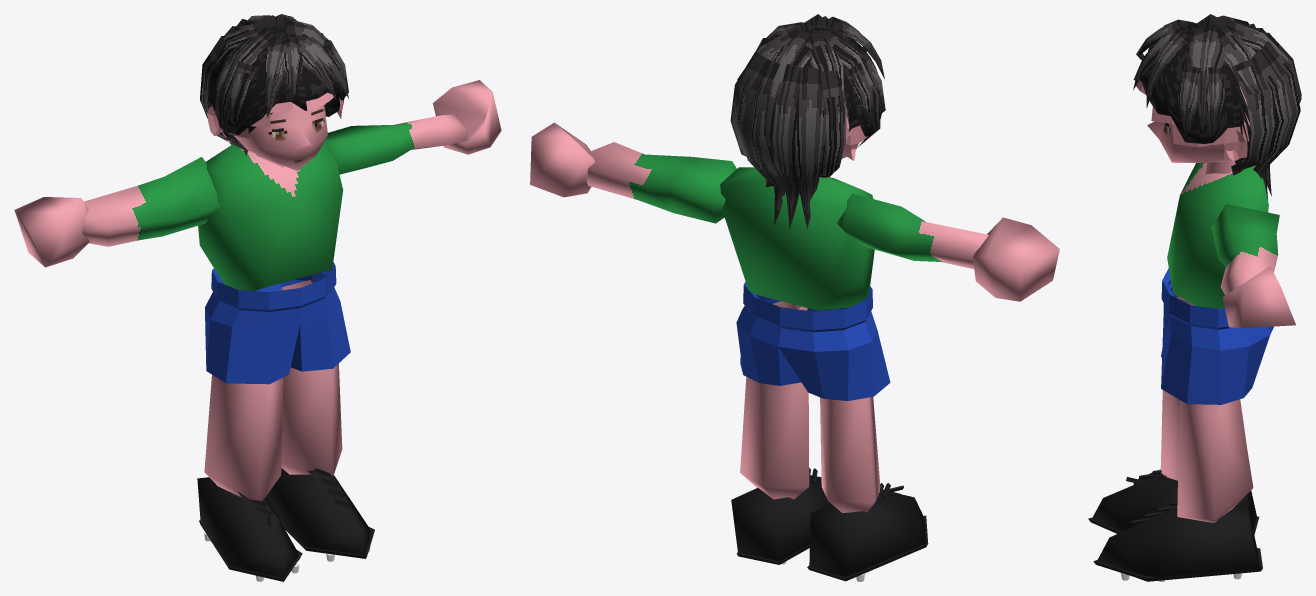
Rendered from 07-mullet_preto.glb.
3 views of the same model, side by side, from view 1: azimuth 30°, elevation 25°; view 2: azimuth 150°, elevation 25°; view 3: azimuth 270°, elevation 25° (orthographic). The views are drawn at different scales.
Parts seen in each view (by area): view 1: Camisa_Tronco, Bermuda, Cabelo, Perna.R, Braco.R, Perna.L, Chuteira.R, Chuteira.L, Braco.L, Mao.R, Cabeca, Mao.L (+2 smaller); view 2: Cabelo, Camisa_Tronco, Bermuda, Perna.L, Braco.L, Chuteira.R, Perna.R, Braco.R, Mao.R, Chuteira.L, Mao.L, Chuteira_Sola.R; view 3: Cabelo, Bermuda, Chuteira.L, Camisa_Tronco, Perna.L, Braco.L, Mao.L, Chuteira.R, Perna.R, Cabeca, Couro_Cabeludo, Chuteira_Sola.L (+3 smaller).
Boxes of the visible parts, x1,y1,x2,y2 form: Camisa_Tronco: [198, 142, 343, 290]; Bermuda: [205, 262, 350, 384]; Cabelo: [200, 14, 348, 155]; Perna.R: [204, 375, 283, 501]; Braco.R: [82, 157, 219, 246]; Perna.L: [281, 280, 342, 476]; Chuteira.R: [197, 477, 300, 577]; Chuteira.L: [266, 468, 370, 555]; Braco.L: [324, 114, 468, 174]; Mao.R: [14, 197, 89, 267]; Cabeca: [233, 104, 327, 170]; Mao.L: [432, 80, 501, 154]; Cabelo: [730, 14, 885, 229]; Camisa_Tronco: [720, 167, 874, 310]; Bermuda: [736, 281, 890, 400]; Perna.L: [740, 301, 809, 499]; Braco.L: [586, 142, 736, 223]; Chuteira.R: [809, 490, 926, 577]; Perna.R: [820, 397, 880, 512]; Braco.R: [837, 193, 988, 268]; Mao.R: [972, 217, 1059, 301]; Chuteira.L: [731, 475, 830, 561]; Mao.L: [530, 122, 594, 197]; Chuteira_Sola.R: [807, 515, 928, 581]; Cabelo: [1133, 14, 1301, 199]; Bermuda: [1161, 268, 1274, 404]; Chuteira.L: [1097, 502, 1259, 581]; Camisa_Tronco: [1167, 162, 1268, 308]; Perna.L: [1177, 399, 1253, 522]; Braco.L: [1211, 204, 1279, 295]; Mao.L: [1222, 266, 1295, 327]; Chuteira.R: [1092, 473, 1256, 531]; Perna.R: [1160, 296, 1246, 480]; Cabeca: [1147, 121, 1233, 162]; Couro_Cabeludo: [1136, 80, 1249, 161]; Chuteira_Sola.L: [1093, 548, 1262, 581].
Bounding box in the file's own units: 0.4523 × 0.4598 × 0.166.
Materials: 3 (3 with a texture image).
